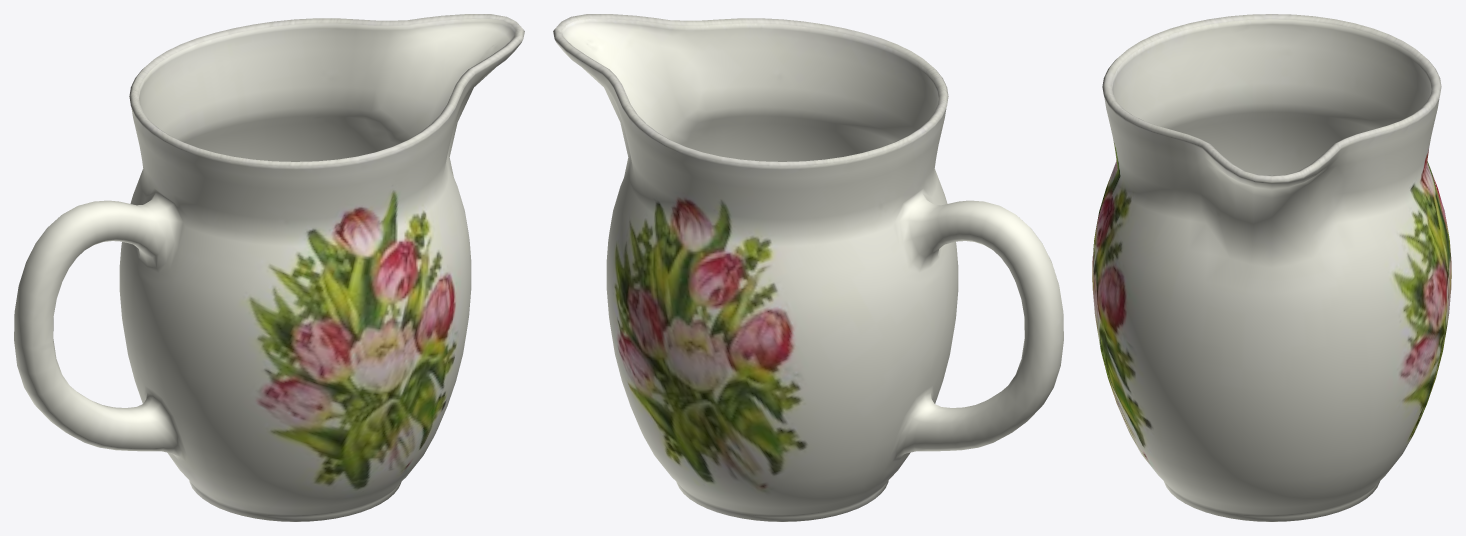
The model's file is jug_01.glb.
The picture shows the model from 3 angles, left to right: view 1: azimuth 30°, elevation 25°; view 2: azimuth 150°, elevation 25°; view 3: azimuth 270°, elevation 25°; orthographic projection. The views are drawn at different scales.
Visible parts, largest first — view 1: jug_01_lod0; view 2: jug_01_lod0; view 3: jug_01_lod0.
Part boxes in pixels (x1,y1,x2,y2): jug_01_lod0: (14, 14, 524, 521); jug_01_lod0: (553, 14, 1063, 521); jug_01_lod0: (1092, 14, 1451, 521).
Size of what is drawn, in the model's own units: 0.2753 by 0.2113 by 0.1675.
Materials: 1 (1 with a texture image).
